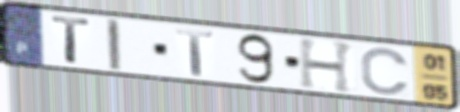9: (234, 33, 276, 85)
C: (359, 46, 412, 97)
H: (296, 37, 357, 95)
I: (104, 17, 124, 72)
T: (49, 14, 94, 66), (174, 27, 217, 78)
